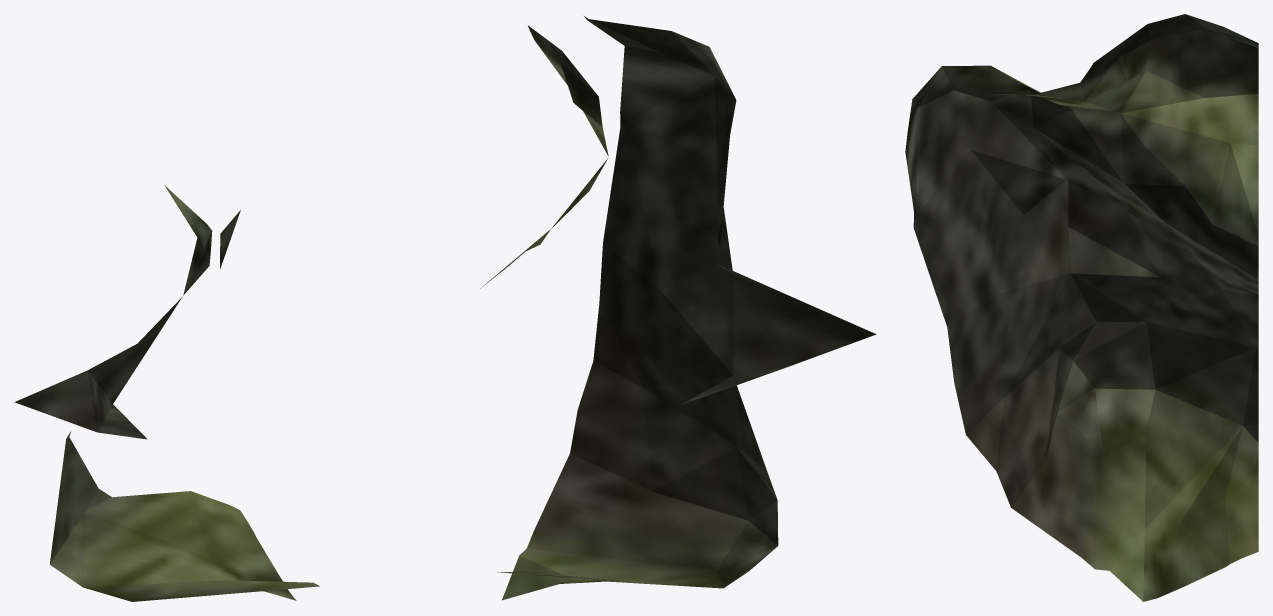
The picture shows the model from 3 angles, left to right: view 1: azimuth 30°, elevation 25°; view 2: azimuth 150°, elevation 25°; view 3: azimuth 270°, elevation 25°; orthographic projection. The views are drawn at different scales.
Bounding box in the file's own units: 0.7488 × 1.26 × 0.7041.
1 material, 1 textured.
